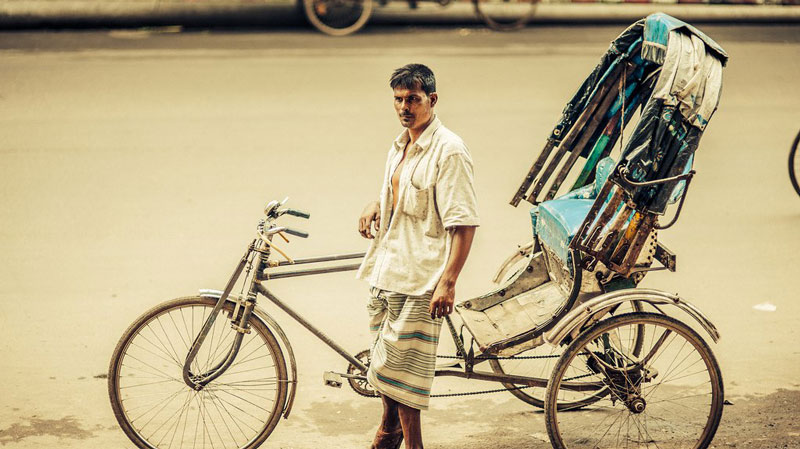Rickshaw: (101, 13, 726, 440)
